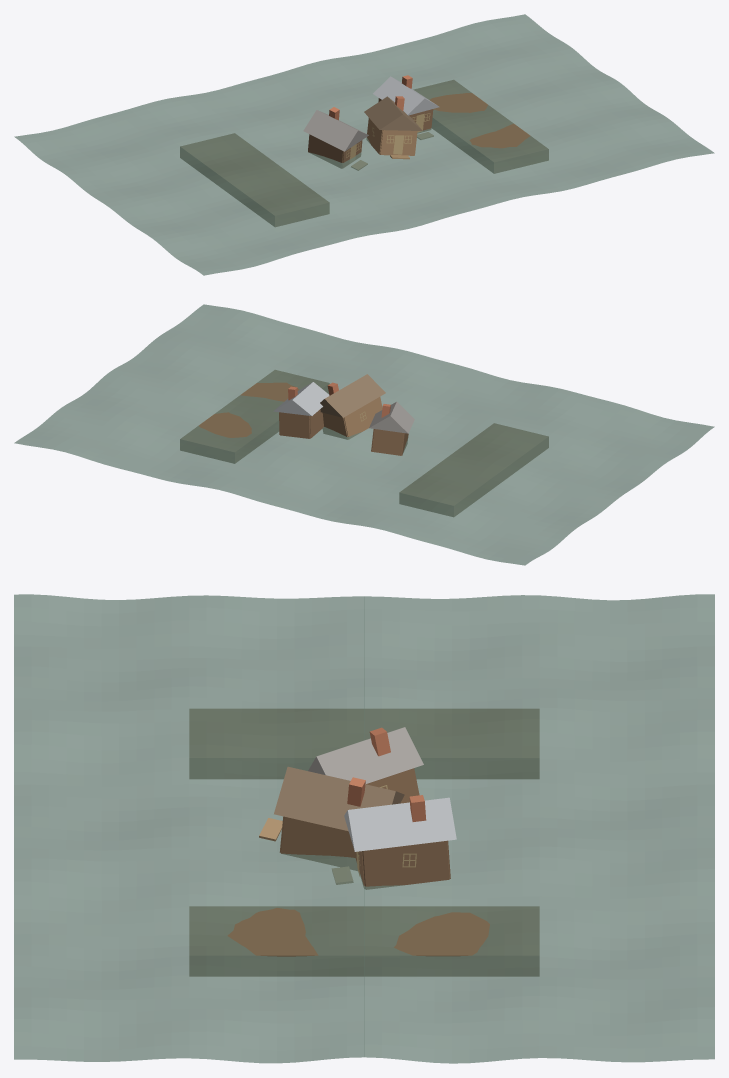
File: CasasDelRio.glb
3 views of the same model, one above another, from view 1: azimuth 30°, elevation 25°; view 2: azimuth 150°, elevation 25°; view 3: azimuth 270°, elevation 25° (orthographic). The views are drawn at different scales.
Visible parts, largest first — view 1: Rio, Orilla_izq, Orilla_der, Cabana_Techo, Cabana_Techo.001, Cabana_Cuerpo.001, Cabana_Techo.002, Cabana_Cuerpo; view 2: Rio, Orilla_izq, Orilla_der, Cabana_Techo.001, Cabana_Cuerpo.001, Cabana_Techo.002, Cabana_Cuerpo.002, Cabana_Techo, Cabana_Cuerpo; view 3: Rio, Orilla_der, Orilla_izq, Cabana_Techo.002, Cabana_Techo.001, Cabana_Cuerpo.002, Cabana_Techo, Cabana_Cuerpo.001, Cabana_Cuerpo.
Part boxes in pixels (x1,y1,x2,y2): Rio: (14,14,714,275); Orilla_izq: (180,133,329,226); Orilla_der: (414,80,548,173); Cabana_Techo: (303,110,368,151); Cabana_Techo.001: (364,96,422,130); Cabana_Cuerpo.001: (366,118,417,155); Cabana_Techo.002: (373,76,439,115); Cabana_Cuerpo: (308,134,362,168); Rio: (14,304,714,565); Orilla_izq: (399,423,548,516); Orilla_der: (180,370,329,463); Cabana_Techo.001: (320,374,385,417); Cabana_Cuerpo.001: (322,397,382,439); Cabana_Techo.002: (273,382,329,415); Cabana_Cuerpo.002: (279,409,323,438); Cabana_Techo: (369,401,414,433); Cabana_Cuerpo: (371,429,408,455); Rio: (14,594,714,1063); Orilla_der: (189,906,539,976); Orilla_izq: (189,709,539,778); Cabana_Techo.002: (344,797,456,851); Cabana_Techo.001: (274,766,404,831); Cabana_Cuerpo.002: (355,840,450,889); Cabana_Techo: (308,727,423,784); Cabana_Cuerpo.001: (279,816,357,870); Cabana_Cuerpo: (366,768,419,803).
Bounding box in the file's own units: 56 × 6.06 × 36.
